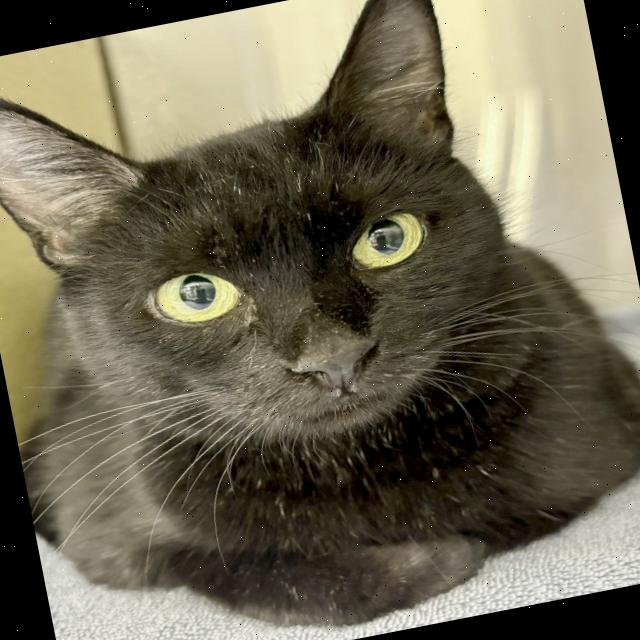bombay_cat: (0, 0, 554, 520)
